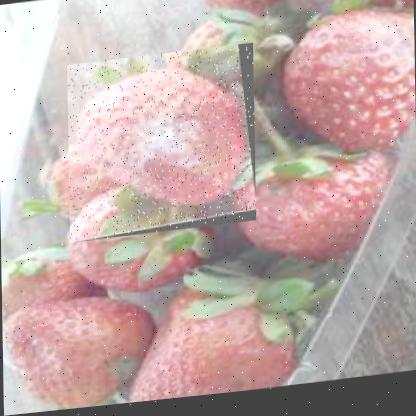strawberry_rotten: (66, 46, 256, 243)
